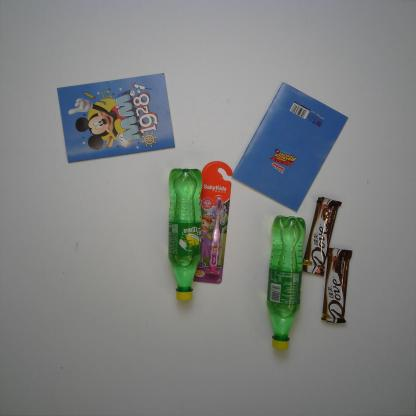Chocolate: (302, 194, 342, 279), (317, 244, 353, 327)
Drink: (264, 214, 309, 354), (165, 166, 204, 310)
Personal Hygiene: (191, 160, 233, 285)
Stationery: (231, 80, 349, 215), (55, 70, 176, 164)
